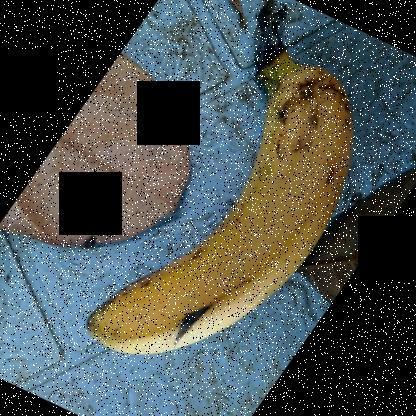ripe: (79, 59, 372, 368)
